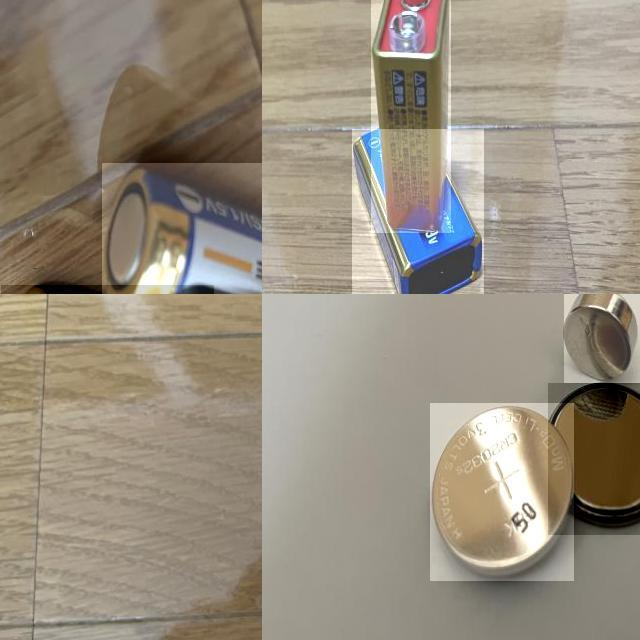9V: (352, 129, 483, 294), (371, 0, 451, 233)
